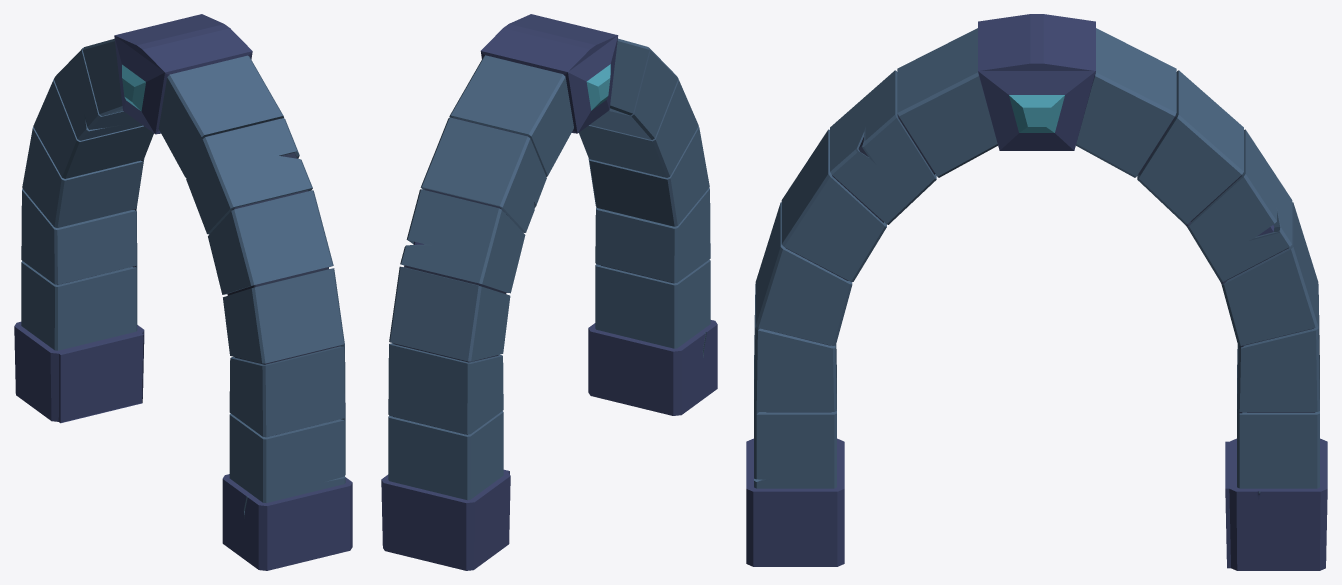
File: stone arch.fbx
3 renders of one model, left to right at view 1: azimuth 30°, elevation 25°; view 2: azimuth 150°, elevation 25°; view 3: azimuth 270°, elevation 25°, orthographic. The views are drawn at different scales.
Parts seen in each view (by area): view 1: Cube; view 2: Cube; view 3: Cube.
Part boxes in pixels (x1,y1,x2,y2): Cube: (14,14,352,570); Cube: (381,14,717,570); Cube: (746,14,1327,570).
Size of the model in its own units: 268 by 1010 by 1051.
